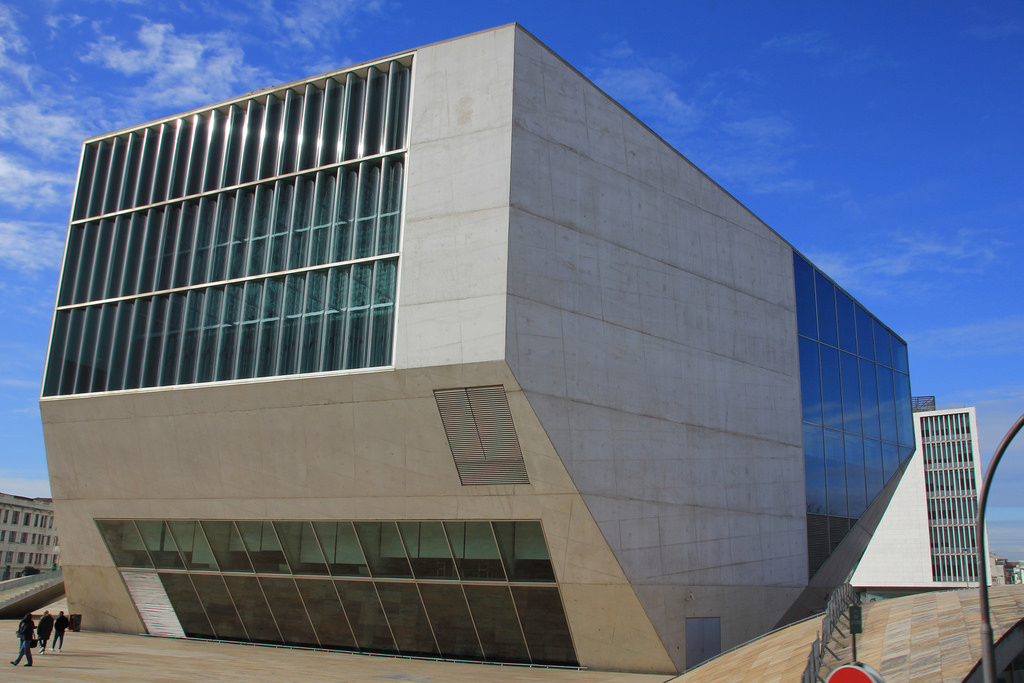musica: (35, 19, 918, 676)
